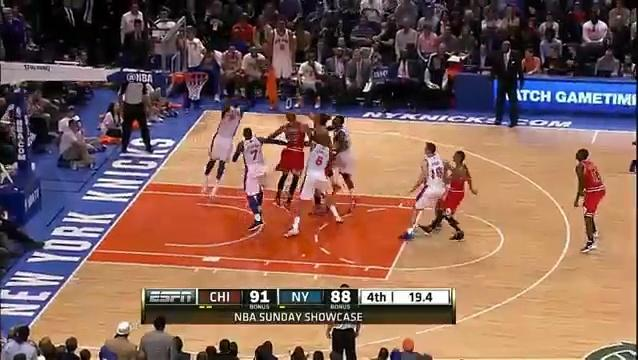Backboard: (162, 16, 187, 93)
Ball: (257, 59, 270, 72)
Basket: (180, 72, 207, 101)
Person: (198, 96, 247, 199), (401, 142, 448, 239), (574, 149, 613, 257), (237, 128, 274, 228), (270, 110, 305, 209), (444, 145, 479, 240), (303, 113, 335, 196), (327, 115, 359, 197), (300, 139, 332, 211)
Referee: (119, 83, 153, 155)
